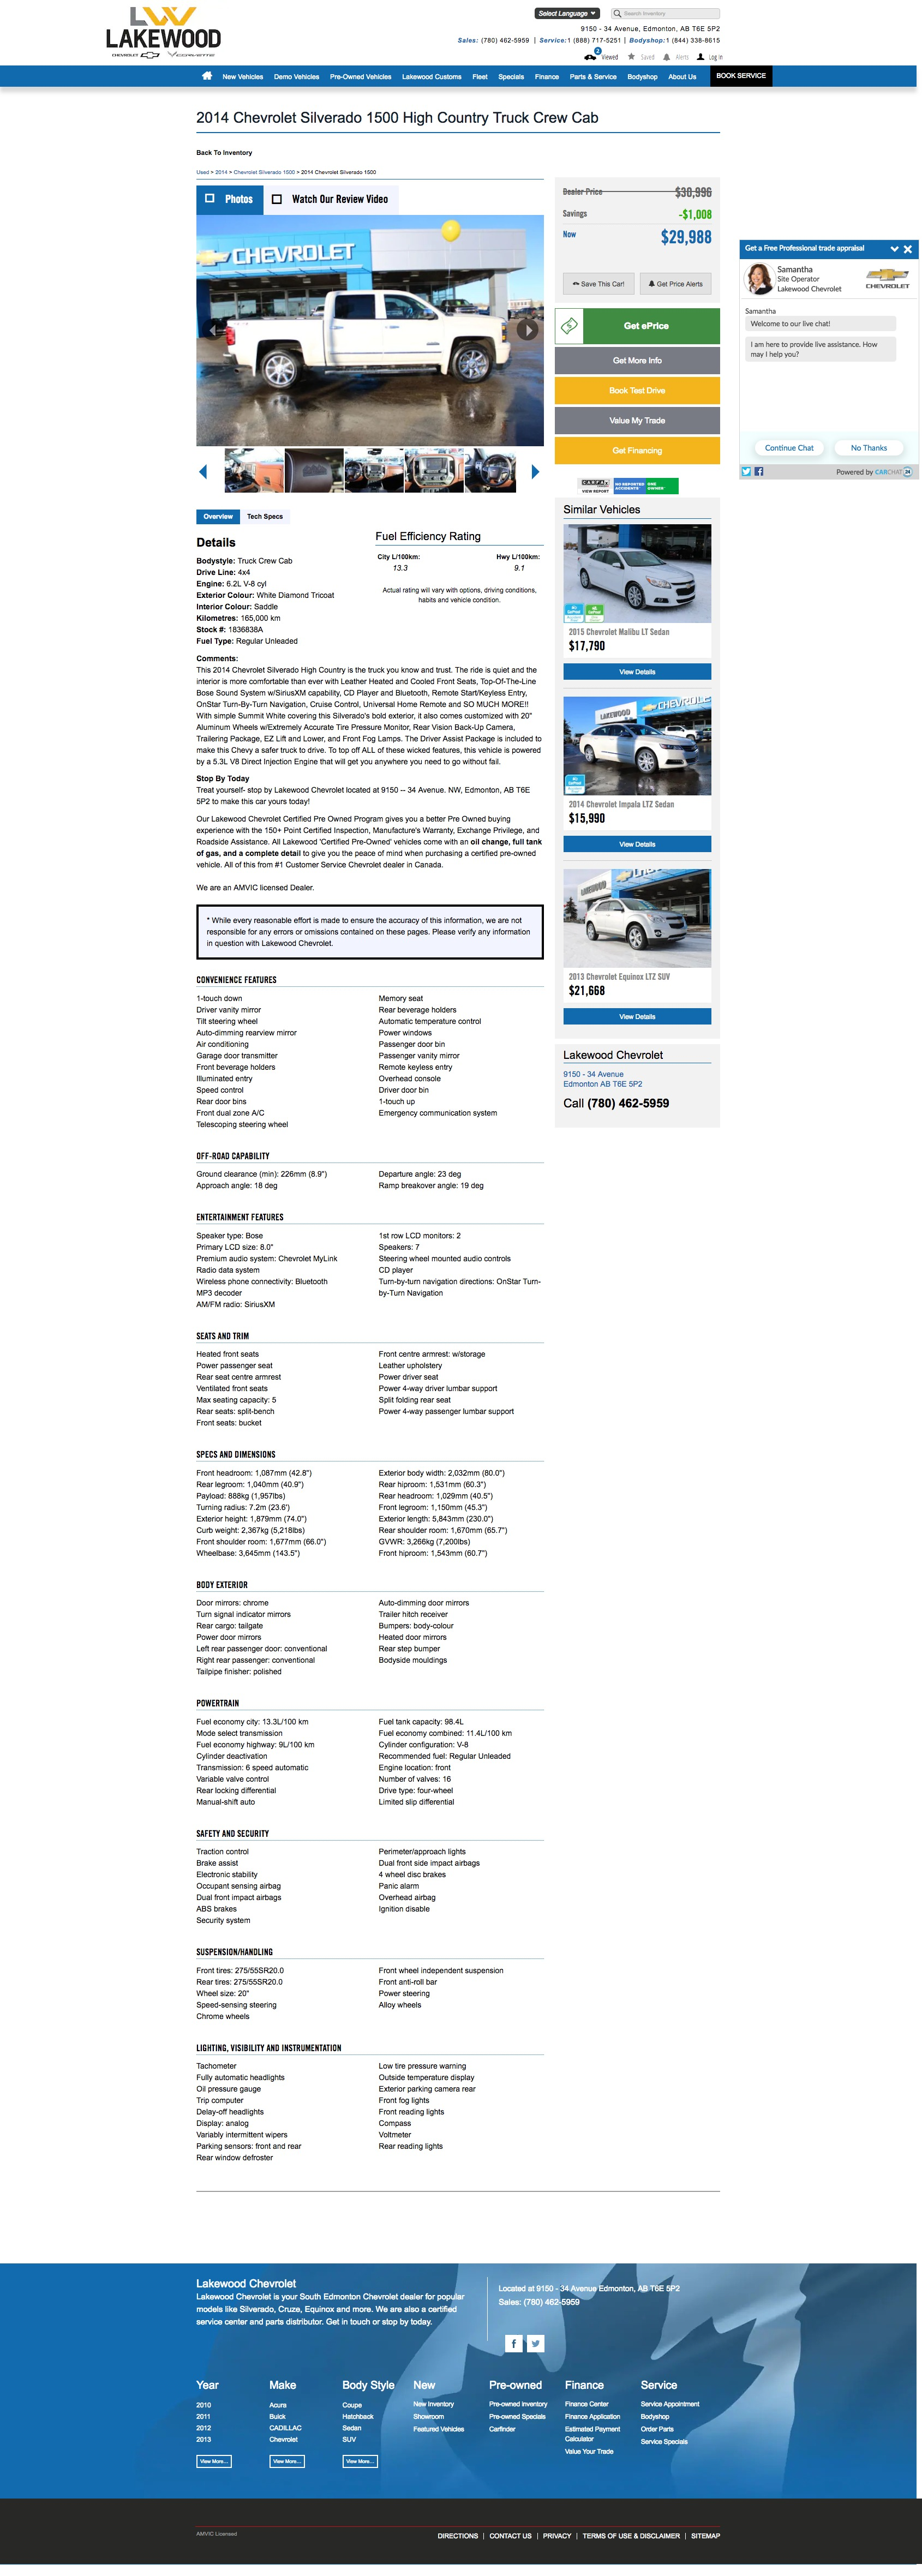car: (531, 463, 541, 481)
